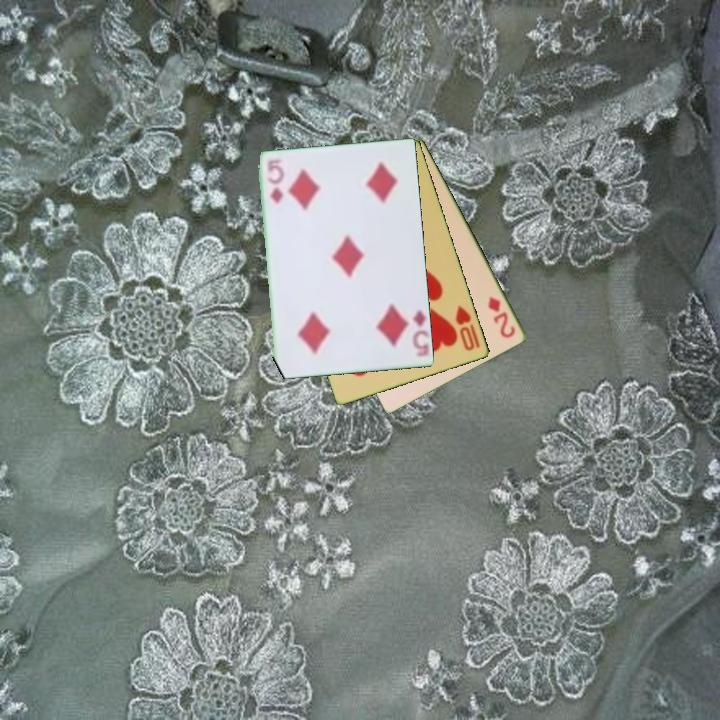10h: (452, 302, 483, 354)
2d: (485, 293, 519, 341)
5d: (409, 306, 430, 358), (263, 156, 284, 207)
